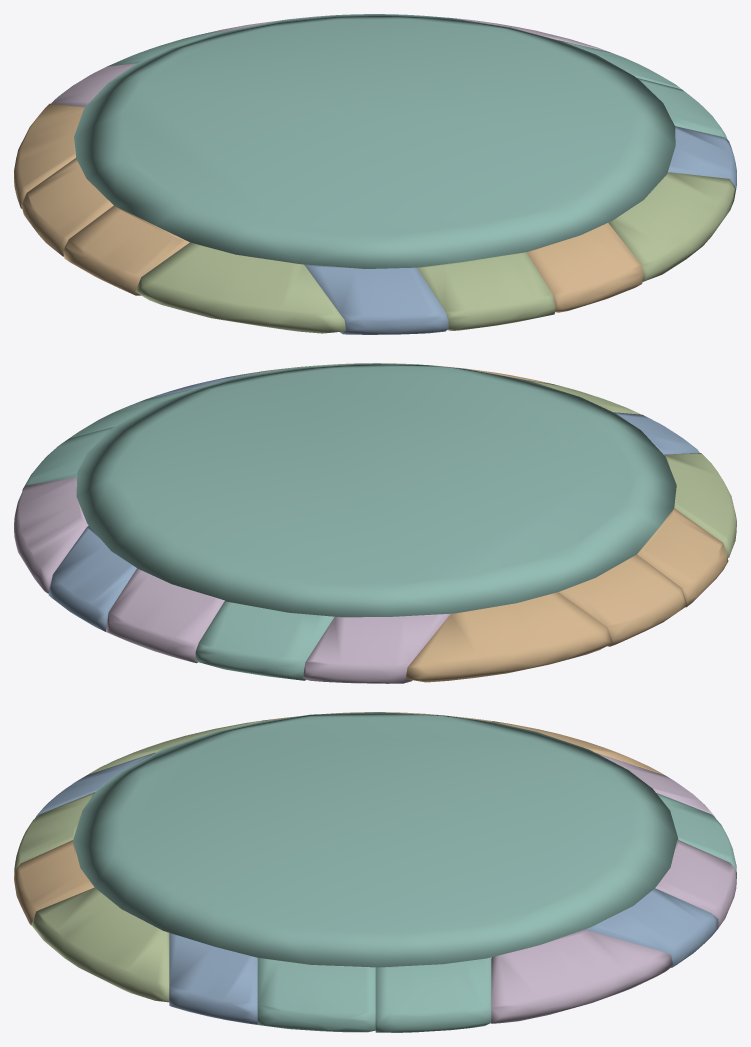
3 renders of one model, top to bottom at view 1: azimuth 30°, elevation 25°; view 2: azimuth 150°, elevation 25°; view 3: azimuth 270°, elevation 25°, orthographic.
Size of the model in its own units: 1.99 by 0.1759 by 1.99.
